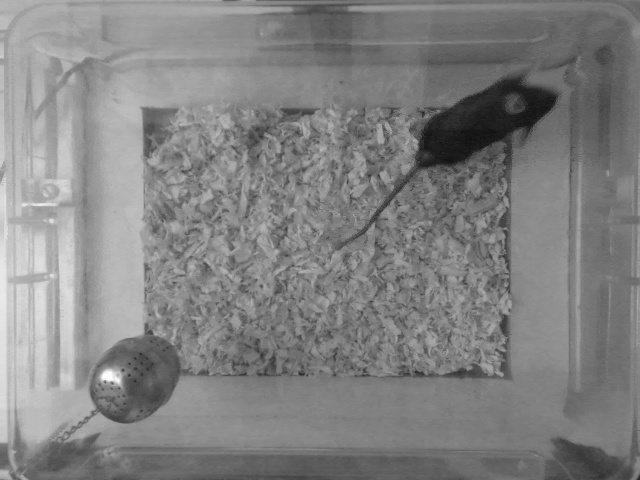mice: (332, 68, 571, 254)
